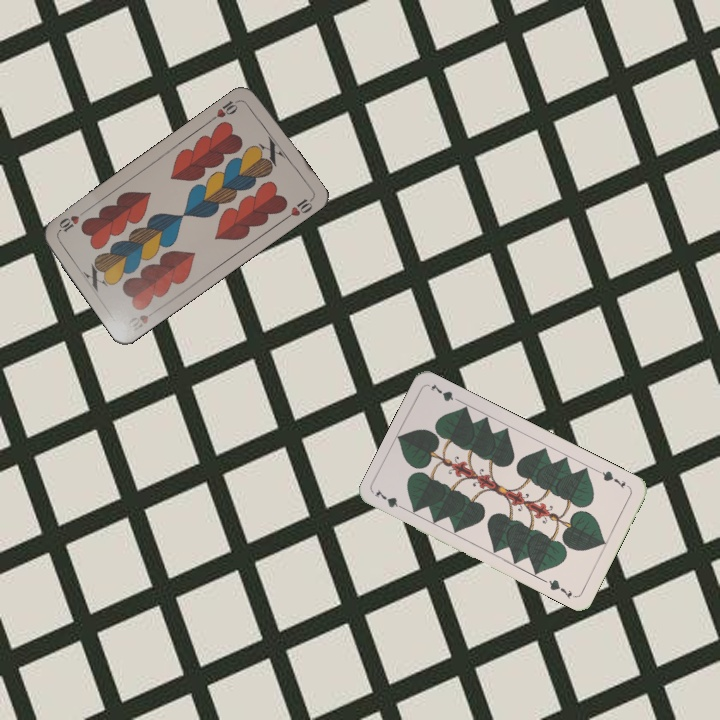G7: (371, 485, 409, 514), (594, 466, 632, 491)
H10: (207, 95, 244, 123), (123, 310, 151, 330)
